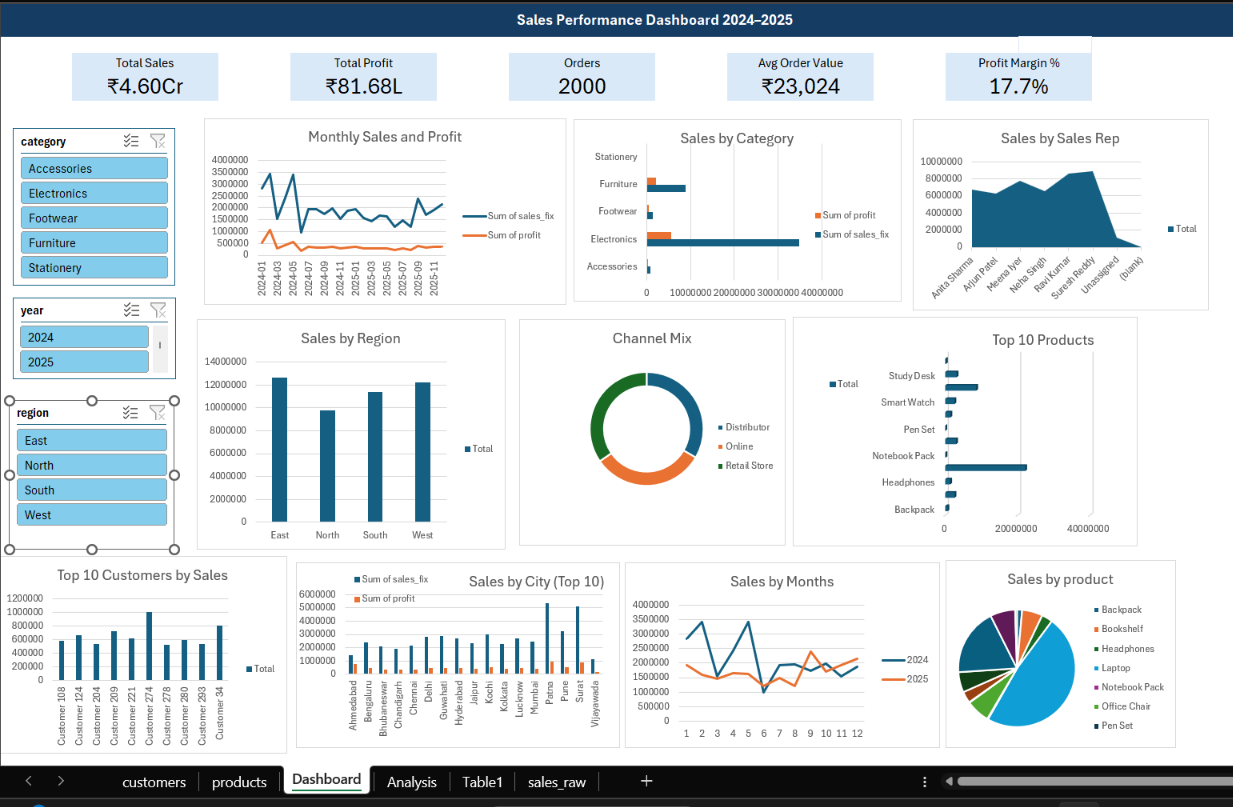

The dashboard page shown, as its layout file describes it:
{"tool":"powerbi","page":{"name":"Sales Dashboard","canvas":[1920,1080],"ordinal":0},"visuals":[{"type":"cardVisual","fields":{"Data":["sales_clean.Total Sales"]},"box":[0,253.4,320.3,117.6],"z":0},{"type":"cardVisual","fields":{"Data":["sales_clean.Order"]},"box":[770.9,253.4,342,117.6],"z":1},{"type":"cardVisual","fields":{"Data":["sales_clean.Avg Order Value"]},"box":[1170.9,253.4,345.6,117.6],"z":2},{"type":"cardVisual","fields":{"Data":["sales_clean.Profit Margin %"]},"box":[1567.2,253.4,352.9,117.6],"z":3},{"type":"cardVisual","fields":{"Data":["sales_clean.Total Profit"]},"box":[369.2,253.4,345.6,117.6],"z":4},{"type":"lineChart","fields":{"Category":["sales_clean.year_month.Variation.Date Hierarchy.Year","sales_clean.year_month.Variation.Date Hierarchy.Quarter","sales_clean.year_month.Variation.Date Hierarchy.Month","sales_clean.year_month.Variation.Date Hierarchy.Day"],"Y":["sales_clean.Total Sales","sales_clean.Total Profit"]},"box":[0,374.6,714.8,329.4],"z":5},{"type":"clusteredColumnChart","fields":{"Category":["Calendar.Month"],"Series":["sales_clean.year"],"Y":["sales_clean.Total Sales"]},"box":[1317.4,742,602.6,338.4],"z":6},{"type":"barChart","fields":{"Category":["sales_clean.category"],"Y":["sales_clean.Total Sales"]},"box":[731.1,385.5,586.3,342],"z":7},{"type":"map","fields":{"Category":["sales_clean.city"],"Series":["sales_clean.region"],"Size":["sales_clean.Total Sales"]},"box":[0,727.5,714.8,352.9],"z":8},{"type":"donutChart","fields":{"Category":["sales_clean.channel"],"Y":["sales_clean.Total Sales"]},"box":[1330.1,385.5,589.9,342],"z":9},{"type":"barChart","fields":{"Category":["sales_clean.product_name"],"Y":["sales_clean.Total Sales"]},"box":[731.1,742,573.7,336.6],"z":10},{"type":"slicer","fields":{"Values":["sales_clean.category"]},"box":[1284.9,130.3,635.2,99.5],"z":11},{"type":"textbox","box":[0,0,1920.4,107],"z":12},{"type":"slicer","fields":{"Values":["sales_clean.year"]},"box":[126.7,130.3,361.9,99.5],"z":13},{"type":"slicer","fields":{"Values":["sales_clean.region"]},"box":[626.1,130.3,448.8,99.5],"z":14},{"type":"textbox","box":[19.9,130.3,106.8,99.5],"z":15},{"type":"textbox","box":[501.3,143,148.4,86.9],"z":16},{"type":"textbox","box":[1098.5,143,206.3,86.9],"z":17}]}

Visuals, with their boxes on the page's 1920x1080 design canvas (x1, y1, x2, y2). These are canvas units, not pixel positions in the 1233x807 screenshot, which may show the page scaled, cropped or inside an application window:
cardVisual - sales_clean.Total Sales: 0 253 320 371
cardVisual - sales_clean.Order: 771 253 1113 371
cardVisual - sales_clean.Avg Order Value: 1171 253 1516 371
cardVisual - sales_clean.Profit Margin %: 1567 253 1920 371
cardVisual - sales_clean.Total Profit: 369 253 715 371
lineChart - sales_clean.year_month.Variation.Date Hierarchy.Year x sales_clean.year_month.Variation.Date Hierarchy.Quarter: 0 375 715 704
clusteredColumnChart - Calendar.Month x sales_clean.year: 1317 742 1920 1080
barChart - sales_clean.category x sales_clean.Total Sales: 731 386 1317 728
map - sales_clean.city x sales_clean.region: 0 728 715 1080
donutChart - sales_clean.channel x sales_clean.Total Sales: 1330 386 1920 728
barChart - sales_clean.product_name x sales_clean.Total Sales: 731 742 1305 1079
slicer - sales_clean.category: 1285 130 1920 230
textbox: 0 0 1920 107
slicer - sales_clean.year: 127 130 489 230
slicer - sales_clean.region: 626 130 1075 230
textbox: 20 130 127 230
textbox: 501 143 650 230
textbox: 1098 143 1305 230
